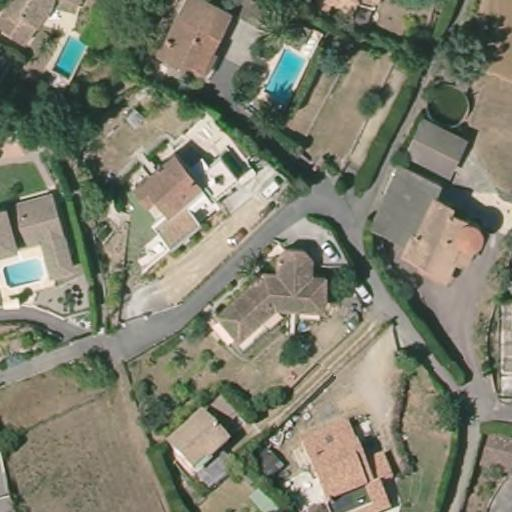pool: (262, 46, 310, 103), (53, 34, 90, 80), (0, 256, 47, 286)
